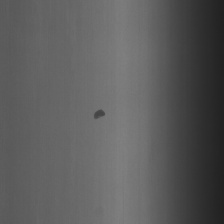oil_spot: (92, 103, 107, 123)
